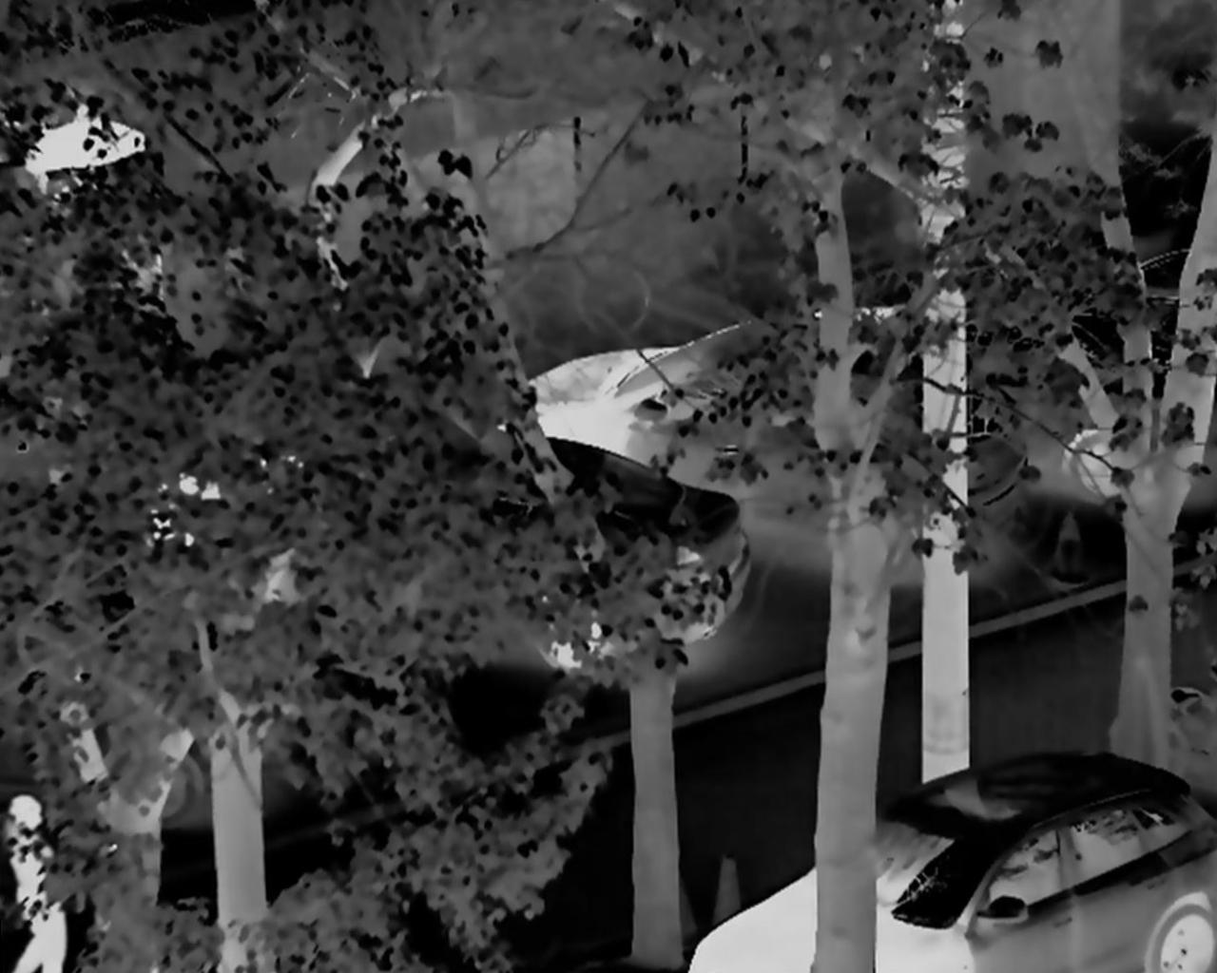person: (6, 793, 73, 973)
